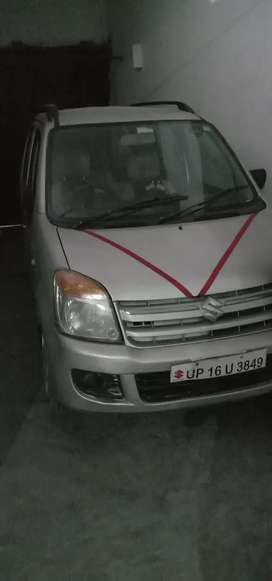UP16U3849: (169, 347, 266, 384)
